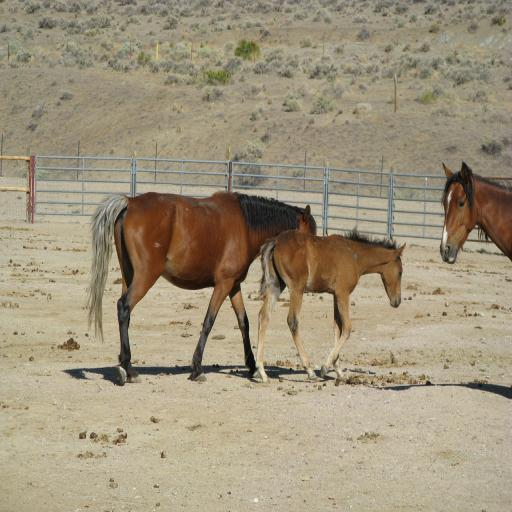horse: (84, 185, 318, 382), (254, 226, 406, 381), (438, 158, 512, 262)
